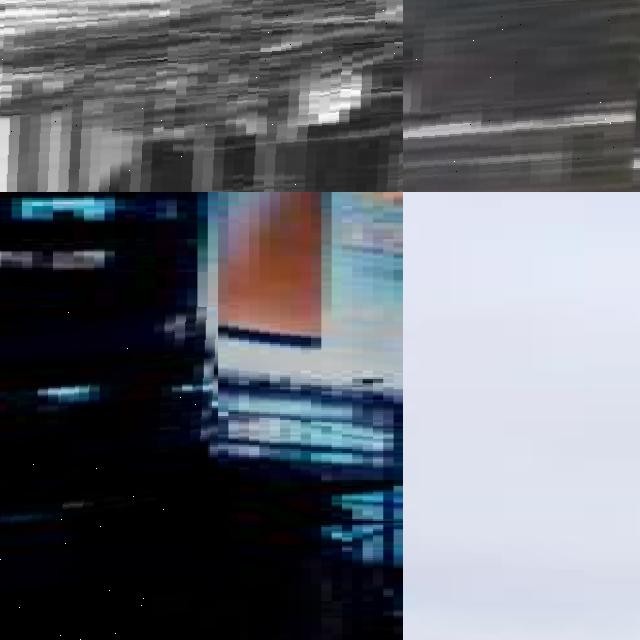street light: (0, 0, 403, 192), (0, 307, 218, 640), (403, 0, 640, 192)
